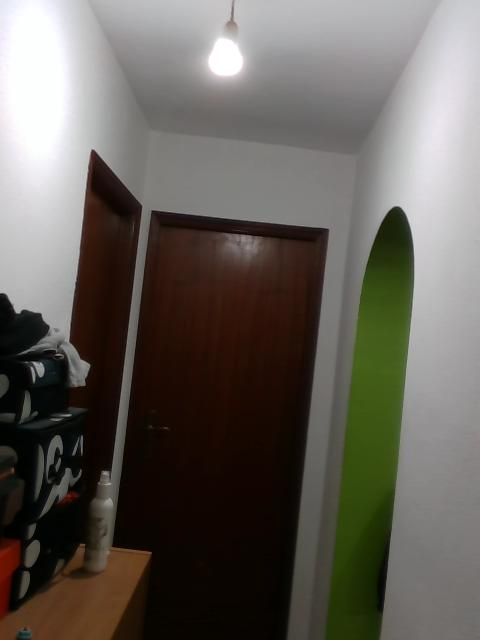door: (130, 225, 316, 640)
